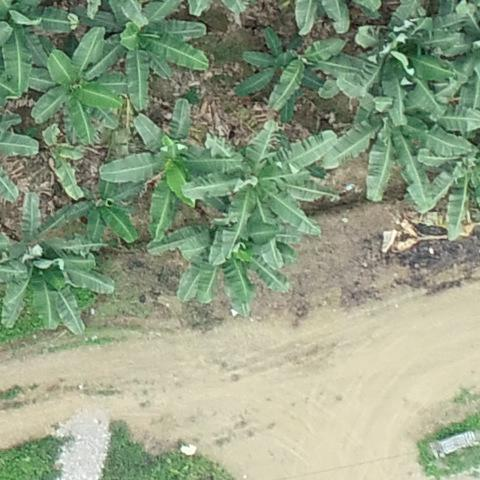Banana-plant: (320, 63, 471, 202), (103, 100, 239, 237), (188, 126, 334, 245), (0, 193, 125, 329), (74, 0, 210, 102), (153, 223, 292, 316), (24, 25, 134, 140), (343, 20, 451, 120), (239, 31, 348, 108)
